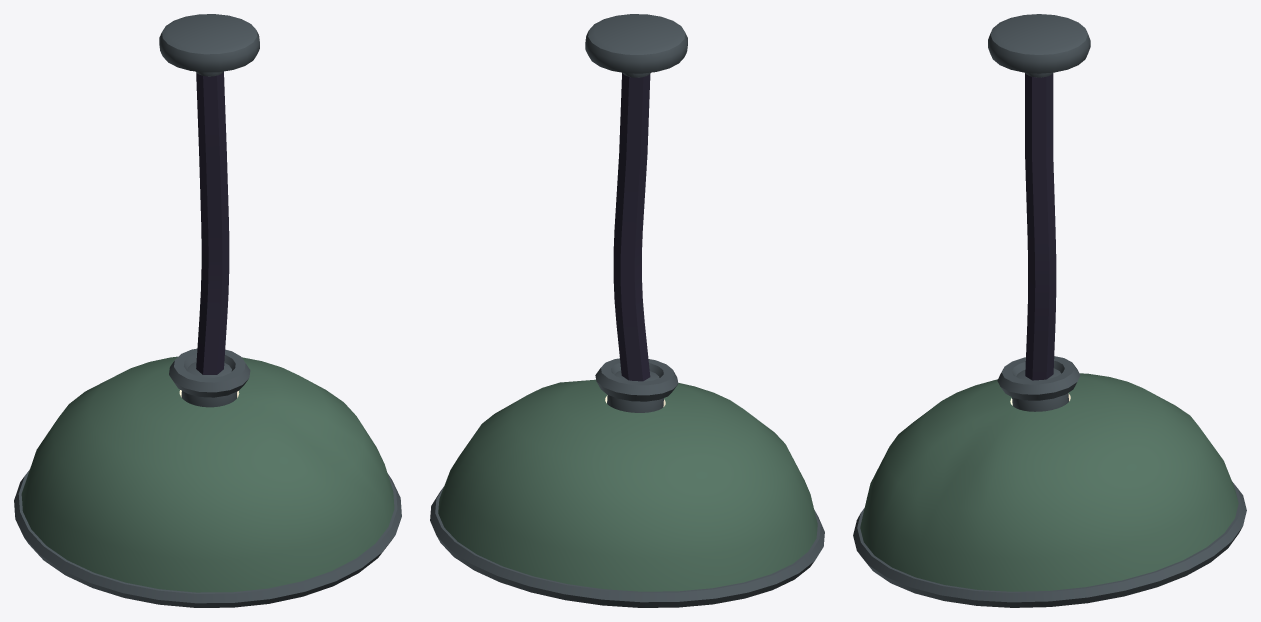
Rendered from pendant_lamp_short.glb.
The picture shows the model from 3 angles, left to right: view 1: azimuth 30°, elevation 25°; view 2: azimuth 150°, elevation 25°; view 3: azimuth 270°, elevation 25°; orthographic projection.
Visible parts, largest first — view 1: Lamp; view 2: Lamp; view 3: Lamp.
Boxes of the visible parts, x1,y1,x2,y2 form: Lamp: (14, 14, 401, 607); Lamp: (430, 14, 824, 607); Lamp: (853, 14, 1246, 607).
Bounding box in the file's own units: 0.6151 × 0.923 × 0.6138.
